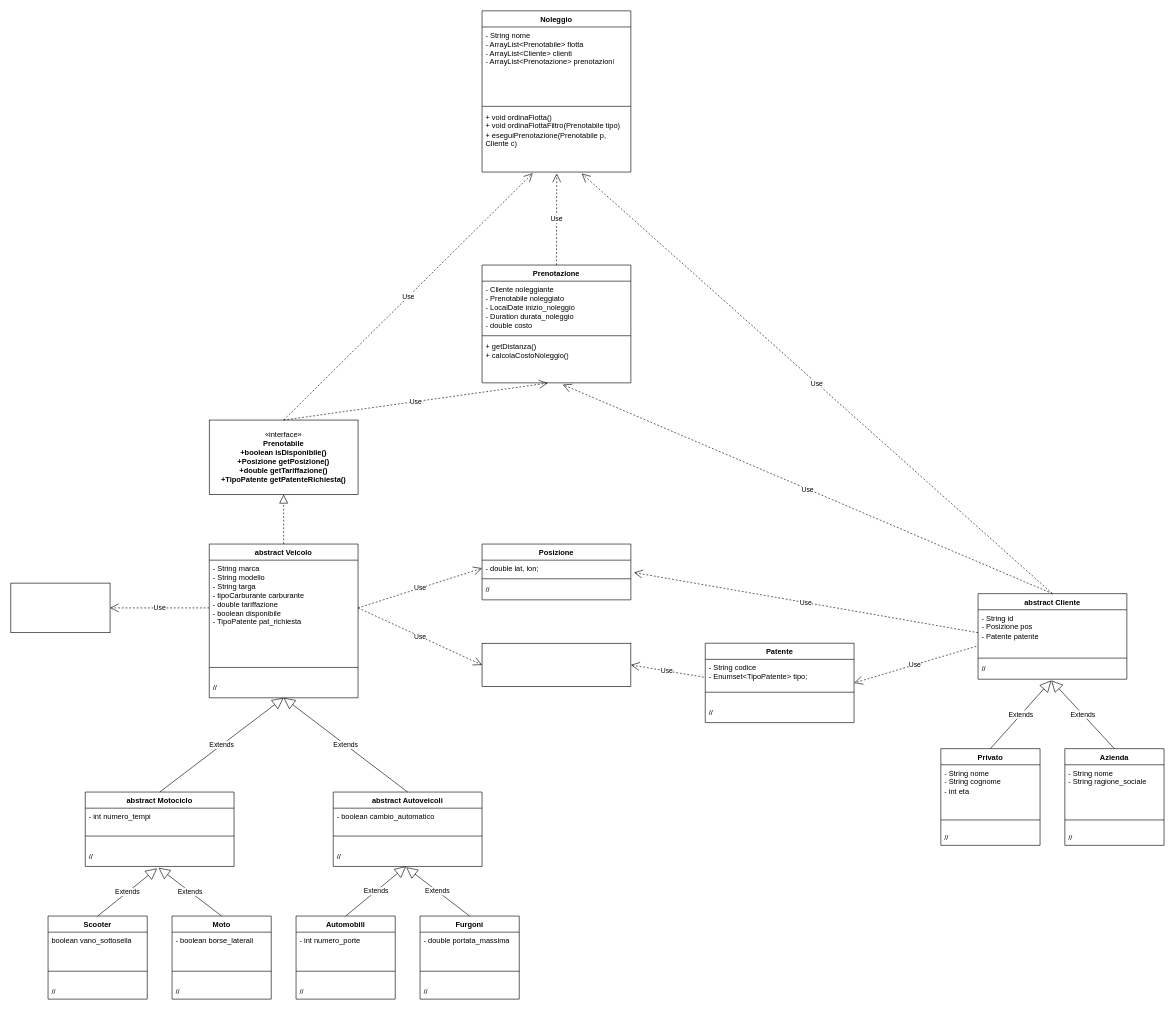
Image size: 1175x1012. Some labels were removed from this diagram. Here are the shapes that lost their labels. From the top down, the centre of each, then its label:
At (x=60, y=607): "Enum: TipoCarburante".
At (x=556, y=665): "Enum: TipoPatente".
